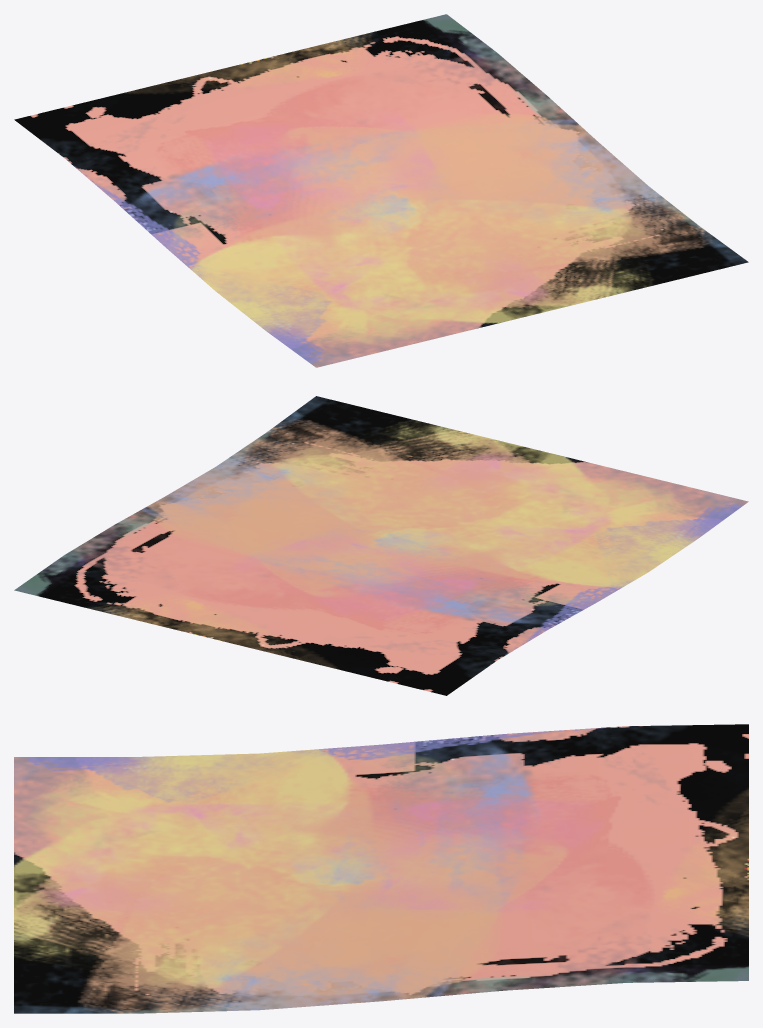
File: S_BrushStroke_OrangeLarge.fbx
The picture shows the model from 3 angles, top to bottom: view 1: azimuth 30°, elevation 25°; view 2: azimuth 150°, elevation 25°; view 3: azimuth 270°, elevation 25°; orthographic projection. The views are drawn at different scales.
Visible parts, largest first — view 1: S_BrushStroke_OrangeLarge; view 2: S_BrushStroke_OrangeLarge; view 3: S_BrushStroke_OrangeLarge.
Boxes of the visible parts, <box> form: S_BrushStroke_OrangeLarge: <box>14,14,748,367</box>; S_BrushStroke_OrangeLarge: <box>14,396,748,695</box>; S_BrushStroke_OrangeLarge: <box>14,724,748,1013</box>.
Bounding box in the file's own units: 1.6 × 0.0954 × 1.94.
